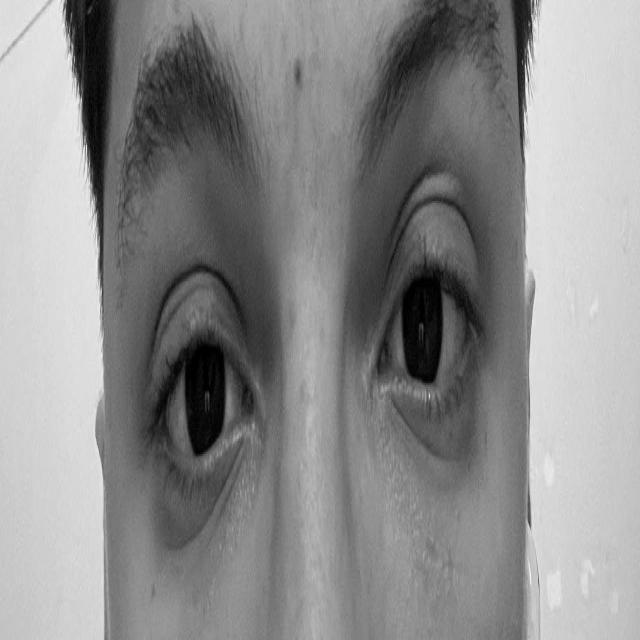real: (106, 156, 518, 566)
